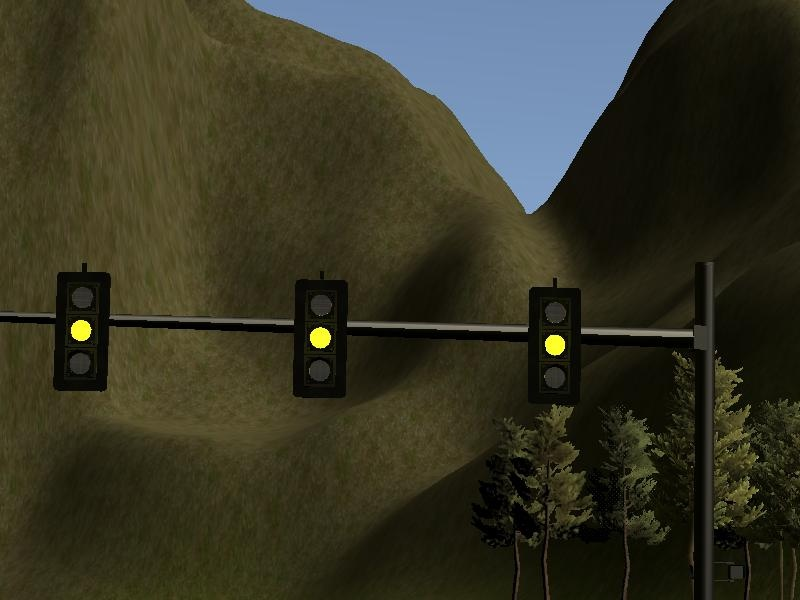YELLOW: (54, 271, 108, 391), (528, 285, 581, 404), (292, 277, 345, 396)
